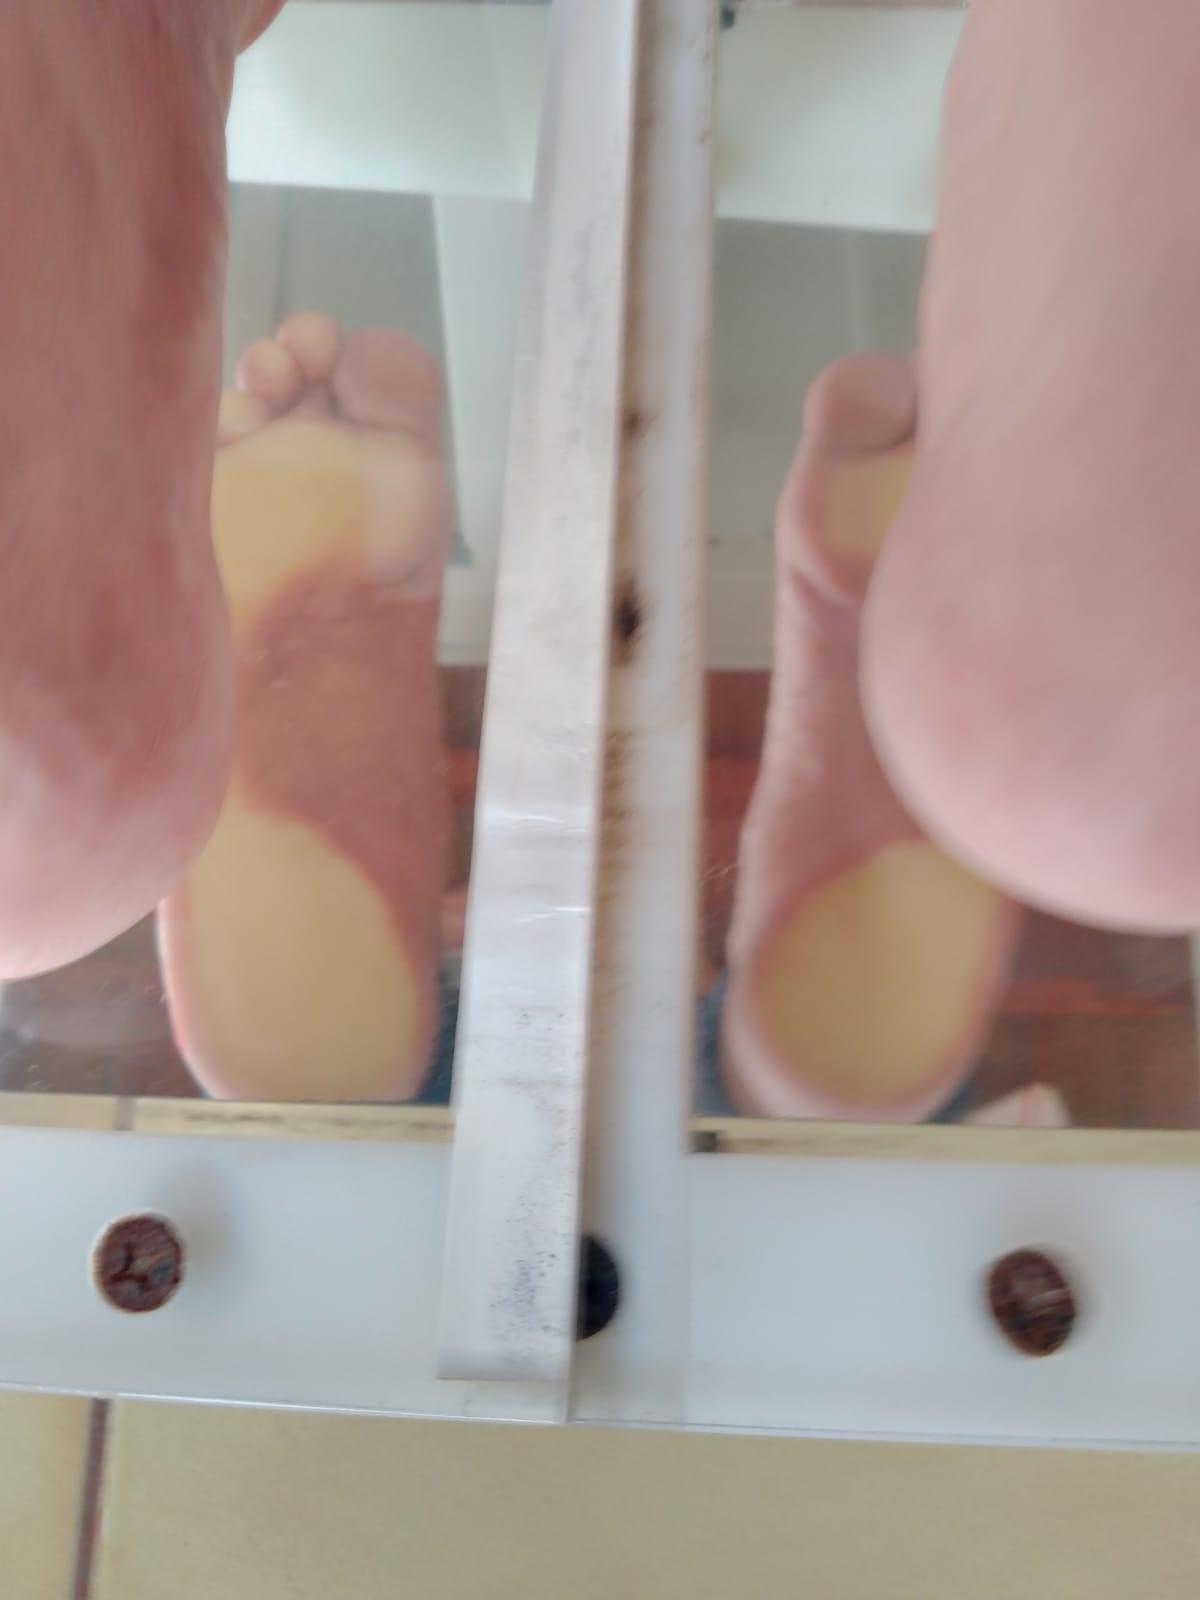Present: (155, 310, 470, 1120)
